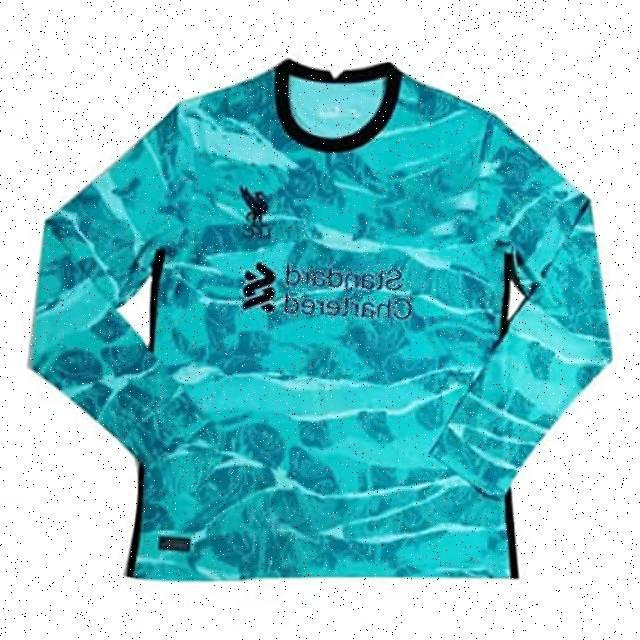Standard Chartered: (239, 264, 412, 319)
